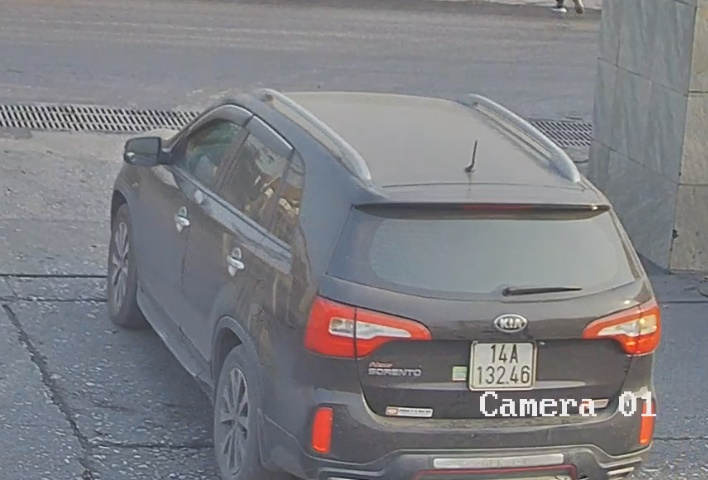vehicle plate: (465, 337, 536, 391)
